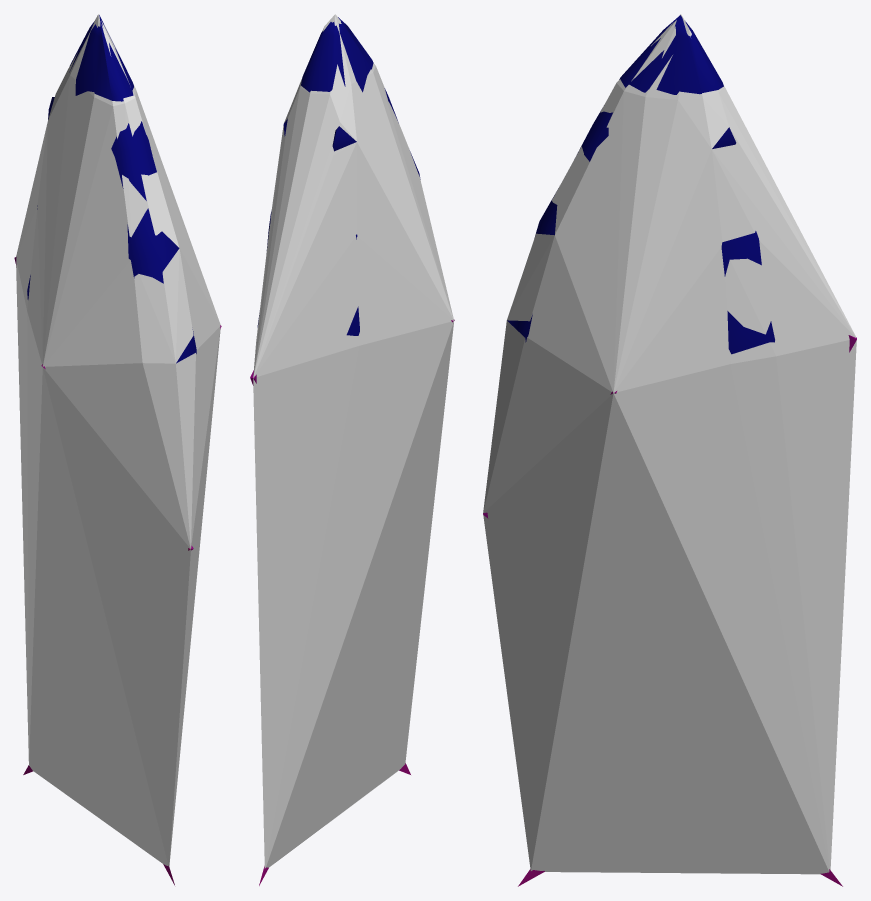
The model's file is MESH_Fauna_Fish_2207_00.fbx.
The picture shows the model from 3 angles, left to right: view 1: azimuth 30°, elevation 25°; view 2: azimuth 150°, elevation 25°; view 3: azimuth 270°, elevation 25°; orthographic projection. The views are drawn at different scales.
Visible parts, largest first — view 1: COL_Fauna_Fish_2207_00, MESH_Fauna_Fish_2207_00_LOD0; view 2: COL_Fauna_Fish_2207_00, MESH_Fauna_Fish_2207_00_LOD0; view 3: COL_Fauna_Fish_2207_00, MESH_Fauna_Fish_2207_00_LOD0.
Part boxes in pixels (x1=…): COL_Fauna_Fish_2207_00: x1=16, y1=14, x2=220, y2=866; MESH_Fauna_Fish_2207_00_LOD0: x1=14, y1=15, x2=221, y2=885; COL_Fauna_Fish_2207_00: x1=253, y1=14, x2=453, y2=868; MESH_Fauna_Fish_2207_00_LOD0: x1=250, y1=17, x2=454, y2=885; COL_Fauna_Fish_2207_00: x1=483, y1=14, x2=856, y2=874; MESH_Fauna_Fish_2207_00_LOD0: x1=483, y1=15, x2=856, y2=886.
Size of what is drawn, in the model's own units: 45.67 by 200 by 77.7.
